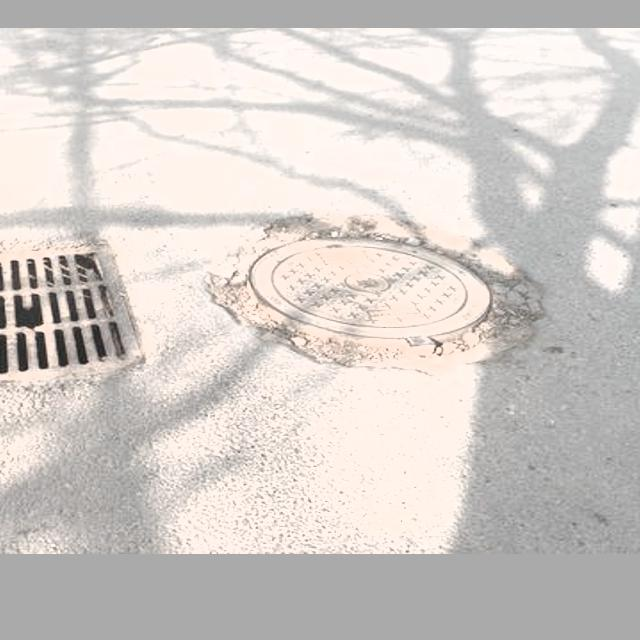circle: (197, 199, 545, 381)
